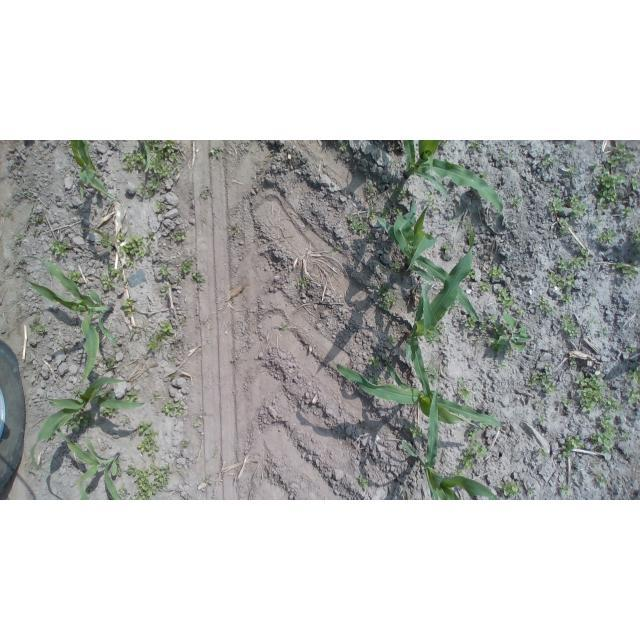Maize: (337, 338, 502, 427), (372, 194, 481, 323), (402, 221, 476, 405), (21, 254, 117, 380), (29, 377, 145, 477), (402, 389, 500, 500), (402, 140, 503, 216), (56, 427, 122, 500), (70, 141, 118, 204)
Weeds: (120, 141, 180, 202), (477, 314, 532, 357), (575, 371, 624, 413), (127, 464, 173, 500), (594, 167, 626, 212), (589, 413, 617, 456), (136, 420, 161, 461), (369, 281, 399, 315), (116, 231, 155, 257), (147, 319, 176, 352), (80, 228, 114, 253), (459, 442, 487, 470), (558, 435, 585, 462), (607, 142, 635, 167), (527, 373, 557, 396), (65, 409, 95, 431), (101, 264, 124, 291), (560, 312, 581, 341), (612, 262, 640, 281), (497, 286, 515, 314), (547, 272, 575, 289), (570, 194, 589, 219), (160, 399, 184, 418), (348, 215, 369, 236), (499, 480, 522, 498), (388, 183, 407, 204), (558, 257, 584, 271), (28, 315, 48, 333), (180, 255, 196, 277), (48, 241, 68, 258), (538, 296, 555, 316), (424, 364, 440, 385), (596, 230, 617, 245), (120, 298, 137, 316), (548, 197, 565, 215), (576, 247, 592, 266), (630, 227, 640, 257), (67, 269, 84, 286), (487, 263, 504, 280), (366, 180, 377, 204), (627, 366, 640, 386), (457, 388, 471, 406), (124, 388, 140, 403), (626, 388, 640, 405), (98, 407, 118, 418), (103, 356, 116, 372), (190, 272, 207, 284), (559, 217, 570, 235), (510, 195, 524, 209), (368, 371, 381, 386), (454, 469, 471, 480), (169, 231, 186, 242), (155, 263, 169, 276), (359, 474, 369, 492), (409, 426, 424, 438), (26, 214, 43, 224), (542, 155, 559, 165), (467, 428, 480, 441), (535, 448, 549, 460), (155, 200, 167, 213), (380, 207, 392, 220), (479, 280, 492, 292), (297, 275, 309, 287), (368, 356, 380, 368), (595, 474, 607, 486), (464, 318, 477, 329), (386, 335, 398, 346), (435, 323, 447, 334), (211, 147, 222, 158), (392, 260, 403, 271), (465, 269, 476, 280), (561, 484, 571, 496), (566, 165, 576, 177), (160, 284, 169, 297), (622, 207, 633, 217), (384, 358, 394, 369), (149, 394, 160, 404), (563, 293, 574, 303), (119, 483, 128, 495), (367, 209, 376, 221), (447, 304, 459, 313), (470, 141, 481, 150), (13, 231, 21, 243), (429, 337, 441, 345), (192, 416, 200, 428), (625, 347, 638, 354), (73, 387, 82, 397), (516, 306, 525, 316), (424, 194, 432, 205), (85, 484, 96, 492), (393, 208, 401, 219), (1, 210, 13, 217), (443, 243, 450, 255), (129, 326, 136, 338), (593, 218, 602, 227), (528, 488, 537, 497), (339, 143, 348, 152), (497, 363, 506, 372), (600, 327, 609, 336), (124, 257, 132, 267), (561, 397, 569, 407), (631, 178, 638, 189), (120, 416, 129, 424), (540, 417, 549, 425), (552, 188, 560, 197), (479, 422, 489, 429), (174, 277, 184, 284), (179, 318, 186, 328), (619, 432, 629, 439), (489, 412, 497, 420), (60, 344, 68, 352), (183, 440, 191, 448), (544, 363, 552, 371), (480, 172, 488, 180), (491, 187, 499, 195), (366, 394, 375, 401), (367, 235, 374, 243), (570, 357, 577, 365), (499, 153, 506, 161), (117, 467, 122, 478), (205, 476, 211, 485), (168, 354, 177, 360), (280, 325, 287, 332), (569, 144, 576, 151), (24, 190, 32, 196), (410, 307, 416, 315), (458, 376, 464, 384), (32, 229, 39, 235), (589, 319, 596, 325), (330, 248, 338, 253), (439, 140, 447, 145), (185, 494, 191, 500), (495, 213, 501, 219), (388, 316, 393, 323), (592, 462, 599, 467), (593, 163, 598, 169), (535, 403, 541, 408), (589, 294, 595, 299), (170, 374, 175, 379), (431, 208, 435, 212), (519, 245, 523, 249), (510, 152, 513, 156)
